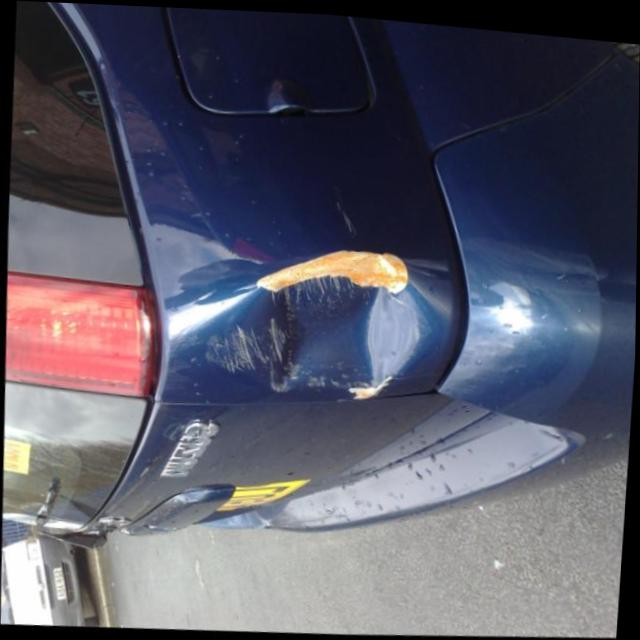Scratch: (197, 313, 396, 404), (245, 233, 416, 304)
